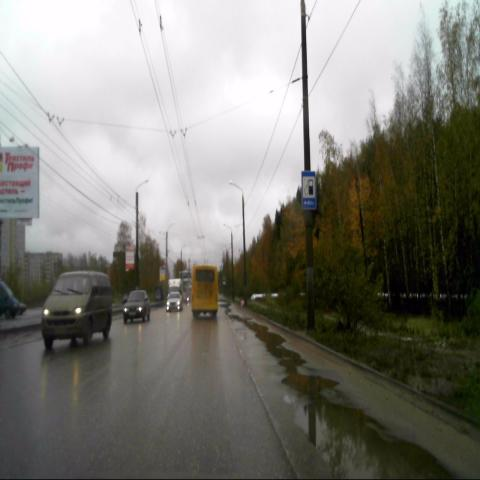7_3: (300, 171, 316, 210)
